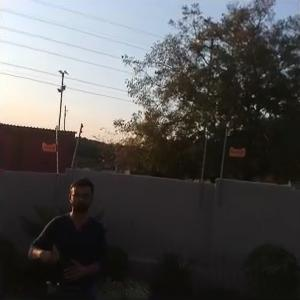follow: (23, 171, 118, 299)
